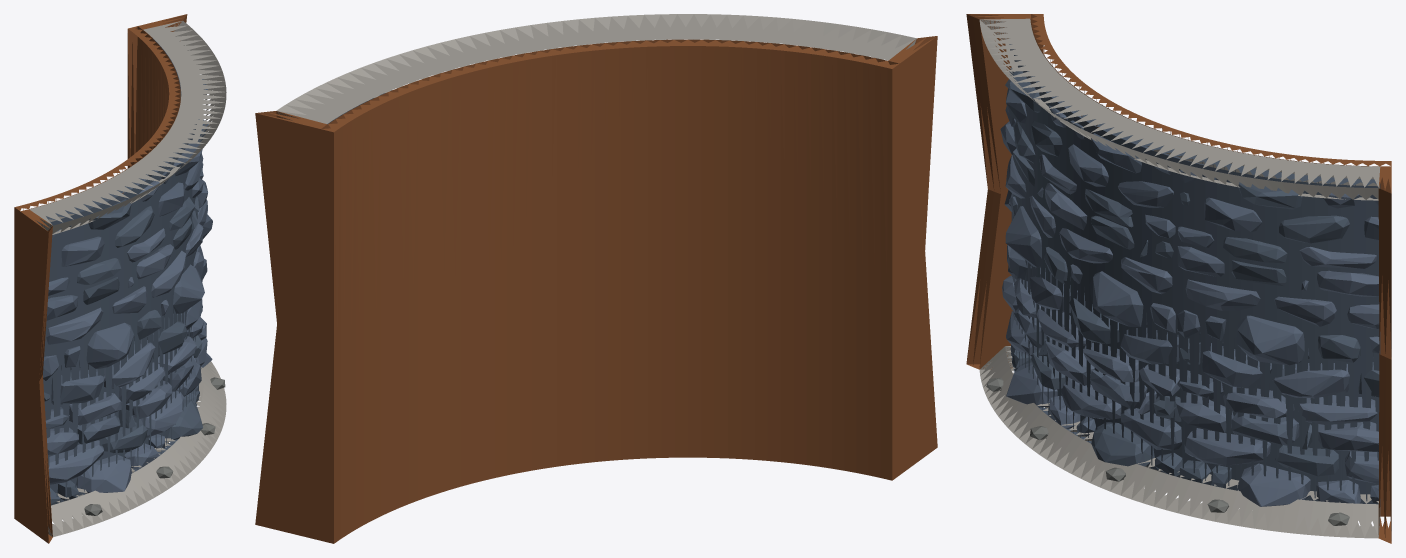
Rendered from Wall_corner_smooth.glb.
3 renders of one model, left to right at view 1: azimuth 30°, elevation 25°; view 2: azimuth 150°, elevation 25°; view 3: azimuth 270°, elevation 25°, orthographic. The views are drawn at different scales.
Parts seen in each view (by area): view 1: WallCornerSmooth; view 2: WallCornerSmooth; view 3: WallCornerSmooth.
Part boxes in pixels (x1,y1,x2,y2): WallCornerSmooth: (14,14,226,543); WallCornerSmooth: (255,14,937,543); WallCornerSmooth: (966,14,1391,543).
Bounding box in the file's own units: 6.6 × 6 × 6.6.
